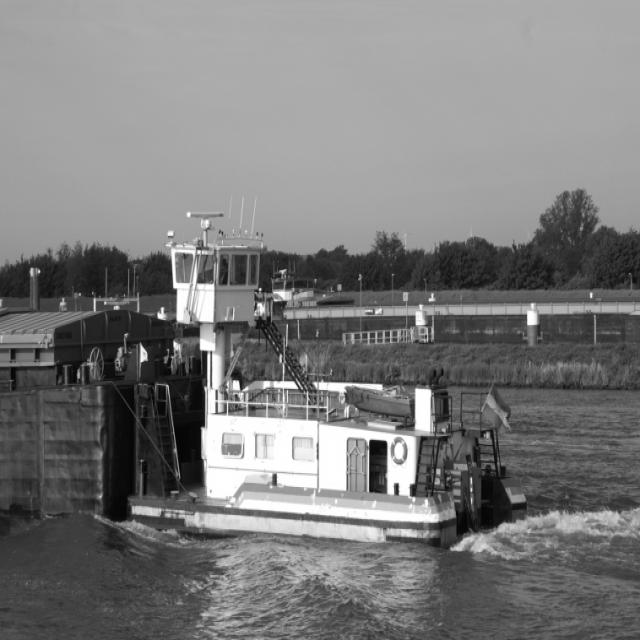tugboat: (106, 194, 533, 556)
